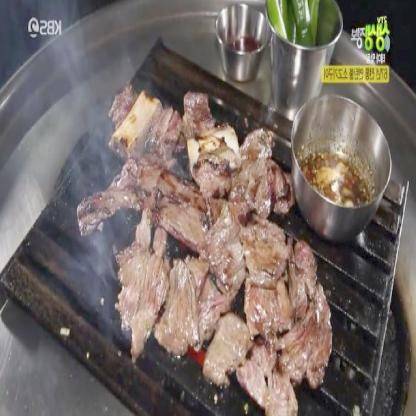Carne: (118, 242, 172, 358), (222, 129, 291, 216), (202, 187, 244, 318), (160, 250, 211, 353), (284, 296, 342, 379), (183, 88, 230, 190), (156, 173, 212, 252), (243, 341, 295, 413), (242, 219, 293, 286), (245, 277, 290, 342), (205, 323, 250, 381), (148, 103, 185, 168)
